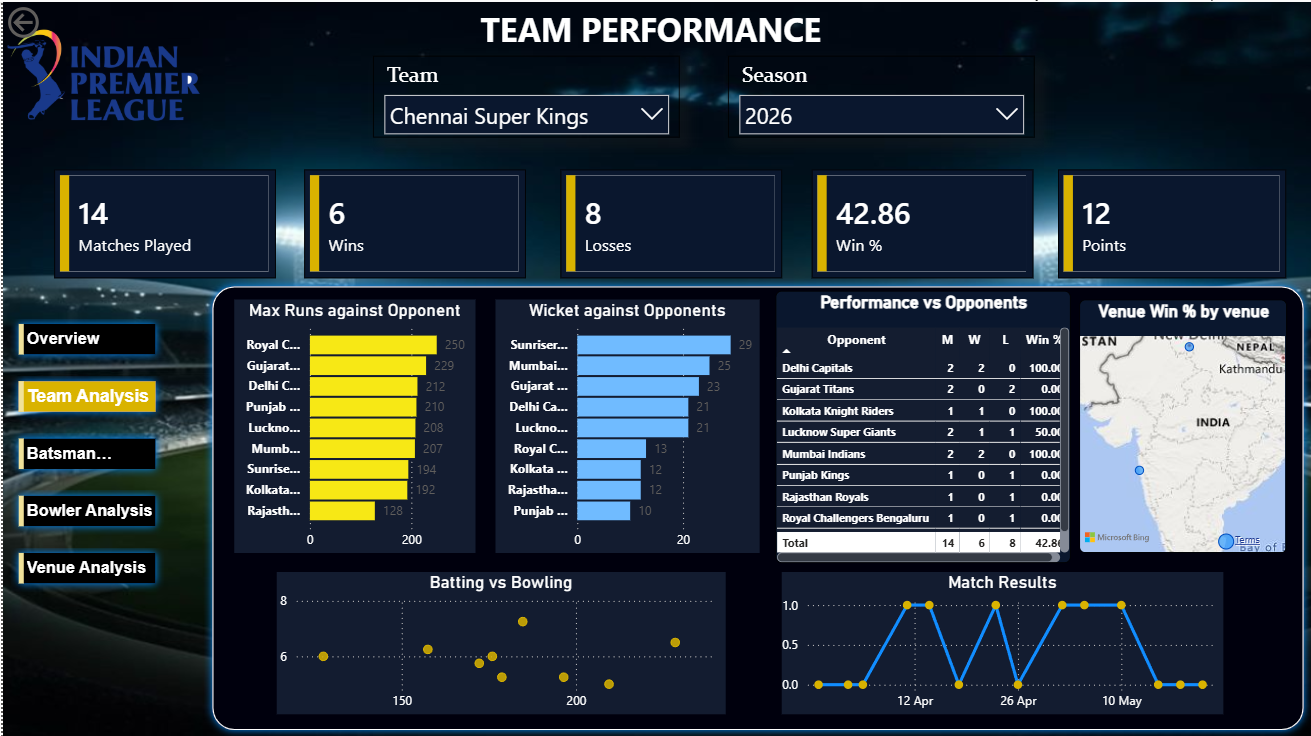

This screenshot's page, from the dashboard's own definition file:
{"tool":"powerbi","page":{"name":"Team Analysis ","canvas":[1280,720],"ordinal":1},"visuals":[{"type":"shape","box":[0,0,1280,720],"z":0},{"type":"image","box":[0,0,1280,719.3],"z":1000},{"type":"image","box":[0,0,196.9,143.1],"z":2000},{"type":"textbox","box":[461.7,0,358.3,53.3],"z":3000},{"type":"slicer","fields":{"Values":["TeamMatch.Team"]},"box":[361.7,52.9,300,80],"z":4000},{"type":"slicer","fields":{"Values":["TeamMatch.Season"]},"box":[709.6,52.9,300,80],"z":5000},{"type":"actionButton","box":[0,0,100,40],"z":6000},{"type":"cardVisual","fields":{"Data":["TeamMatch.Matches Played"]},"box":[50,163.3,216.7,106.7],"z":7000},{"type":"cardVisual","fields":{"Data":["TeamMatch.Wins"]},"box":[295,163.3,216.7,106.7],"z":8000},{"type":"cardVisual","fields":{"Data":["TeamMatch.Losses"]},"box":[545,163.3,216.7,106.7],"z":9000},{"type":"cardVisual","fields":{"Data":["TeamMatch.Win %"]},"box":[791.7,163.3,216.7,106.7],"z":10000},{"type":"cardVisual","fields":{"Data":["TeamMatch.Points"]},"box":[1031.7,163.3,223.3,106.7],"z":11000},{"type":"shape","box":[196.9,270.2,1083.4,450],"z":12000},{"type":"clusteredBarChart","title":"Max Runs against Opponent","fields":{"Category":["TeamMatch.Opponent"],"Y":["Max(innings.runs)"]},"box":[226.2,291,236,248.2],"z":13000},{"type":"clusteredBarChart","title":"Wicket against Opponents","fields":{"Y":["Sum(innings.wickets)"],"Category":["TeamMatch.Opponent"]},"box":[481.8,291,258,248.2],"z":14000},{"type":"lineChart","title":"Match Results","fields":{"Y":["TeamMatch.Wins"],"Category":["TeamMatch.Date"]},"box":[761.8,557.6,431.7,139.4],"z":16000},{"type":"scatterChart","title":"Batting vs Bowling","fields":{"Y":["Avg(innings.wickets)"],"X":["Avg(innings.runs)"],"Category":["TeamMatch.Opponent"]},"box":[267.8,557.6,439,139.4],"z":17000},{"type":"tableEx","title":"Performance vs Opponents","fields":{"Values":["TeamMatch.Opponent","TeamMatch.Matches vs Opponent","TeamMatch.Wins","TeamMatch.Losses","TeamMatch.Win %"]},"box":[755.7,282.5,288.6,266.6],"z":18000},{"type":"map","fields":{"Category":["DimMatch.venue"],"Size":["TeamMatch.Venue Win %"]},"box":[1052.9,291,203,248.2],"z":19000},{"type":"pageNavigator","box":[7.3,306.9,150,273.3],"z":20000}]}

Visuals, with their boxes on the page's 1280x720 design canvas (x1, y1, x2, y2). These are canvas units, not pixel positions in the 1311x736 screenshot, which may show the page scaled, cropped or inside an application window:
shape: [0,0,1280,720]
image: [0,0,1280,719]
image: [0,0,197,143]
textbox: [462,0,820,53]
slicer - TeamMatch.Team: [362,53,662,133]
slicer - TeamMatch.Season: [710,53,1010,133]
actionButton: [0,0,100,40]
cardVisual - TeamMatch.Matches Played: [50,163,267,270]
cardVisual - TeamMatch.Wins: [295,163,512,270]
cardVisual - TeamMatch.Losses: [545,163,762,270]
cardVisual - TeamMatch.Win %: [792,163,1008,270]
cardVisual - TeamMatch.Points: [1032,163,1255,270]
shape: [197,270,1280,720]
"Max Runs against Opponent" clusteredBarChart: [226,291,462,539]
"Wicket against Opponents" clusteredBarChart: [482,291,740,539]
"Match Results" lineChart: [762,558,1194,697]
"Batting vs Bowling" scatterChart: [268,558,707,697]
"Performance vs Opponents" tableEx: [756,282,1044,549]
map - DimMatch.venue x TeamMatch.Venue Win %: [1053,291,1256,539]
pageNavigator: [7,307,157,580]
